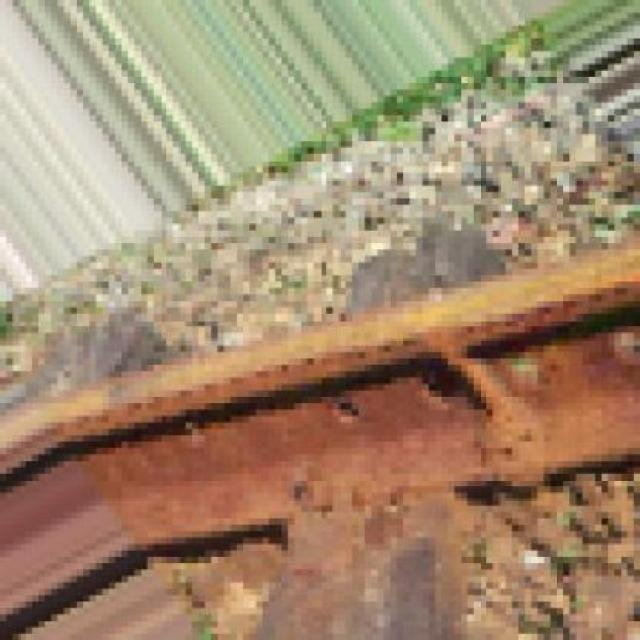defective: (11, 292, 640, 591)
